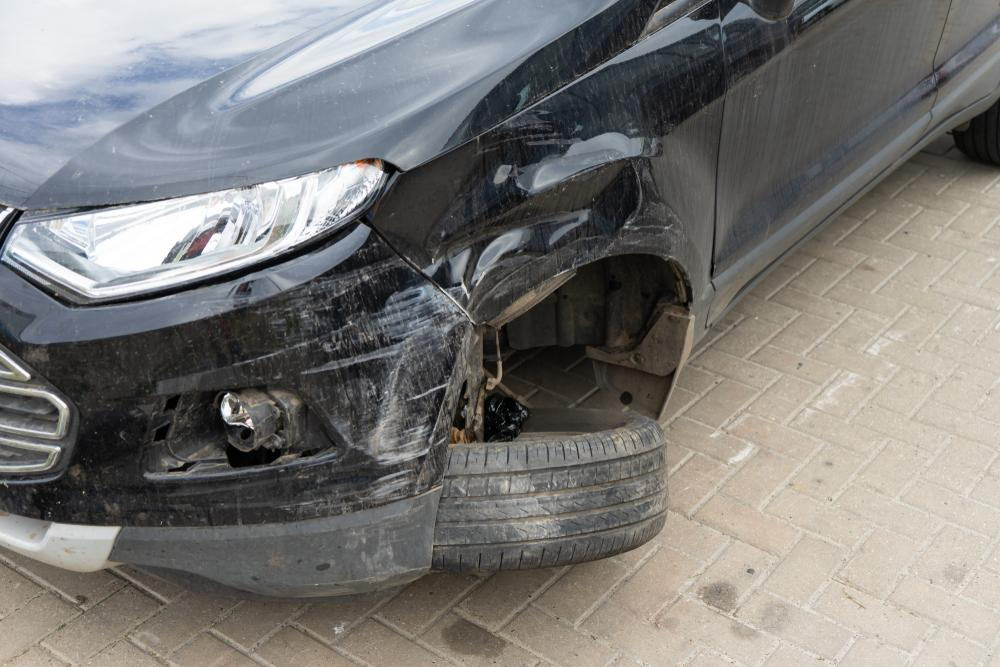dent: (435, 110, 658, 314)
scratch: (271, 257, 453, 501)
